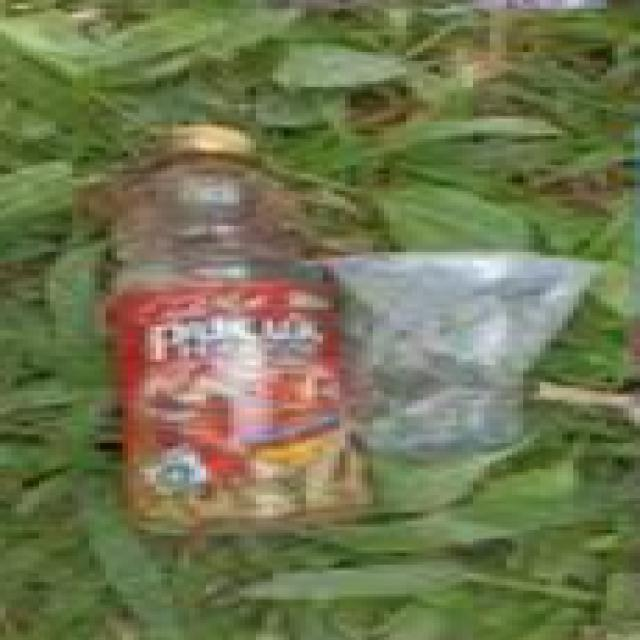GelasPlastik: (304, 248, 594, 466)
